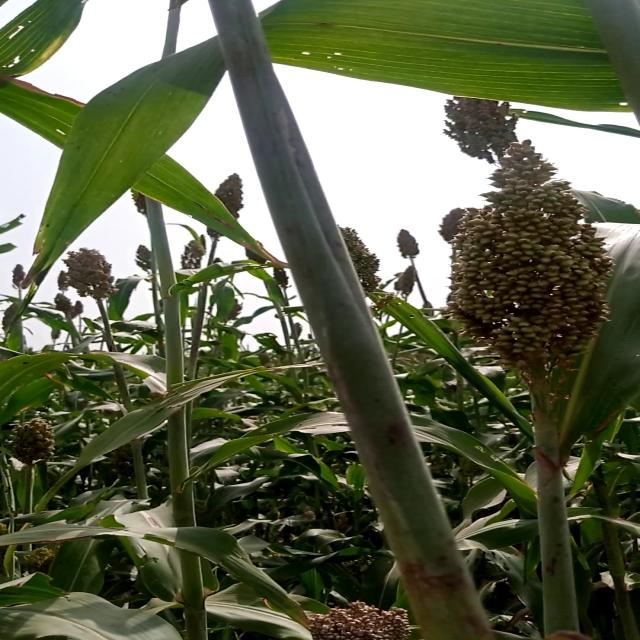UnripeSorghum: (418, 118, 640, 381)
